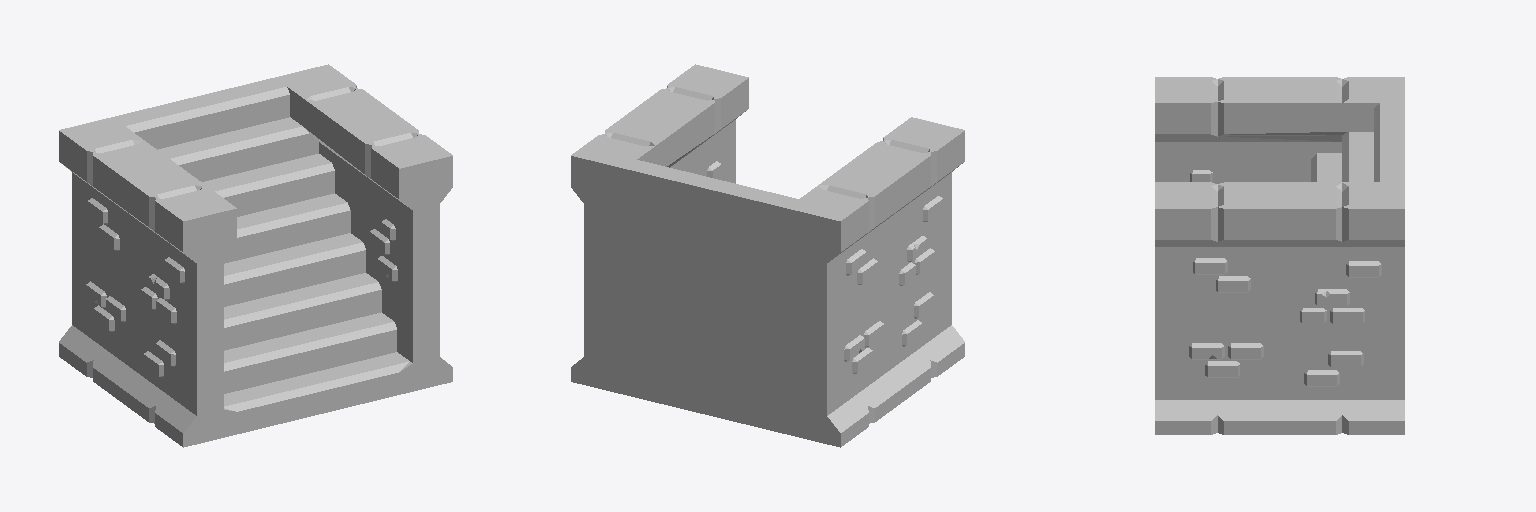
The model's file is stairs_walled.obj.
3 renders of one model, left to right at view 1: azimuth 30°, elevation 25°; view 2: azimuth 150°, elevation 25°; view 3: azimuth 270°, elevation 25°, orthographic.
Visible parts, largest first — view 1: stairs_walled_Cube.13656; view 2: stairs_walled_Cube.13656; view 3: stairs_walled_Cube.13656.
Part boxes in pixels (left/top/right/bottom): stairs_walled_Cube.13656: left=59, top=64, right=452, bottom=447; stairs_walled_Cube.13656: left=571, top=64, right=964, bottom=447; stairs_walled_Cube.13656: left=1155, top=77, right=1404, bottom=434.
Bounding box in the file's own units: 5 × 4 × 4.